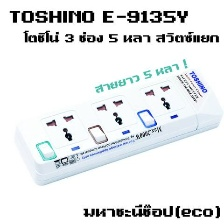three_eye_plug: (8, 64, 224, 187)
